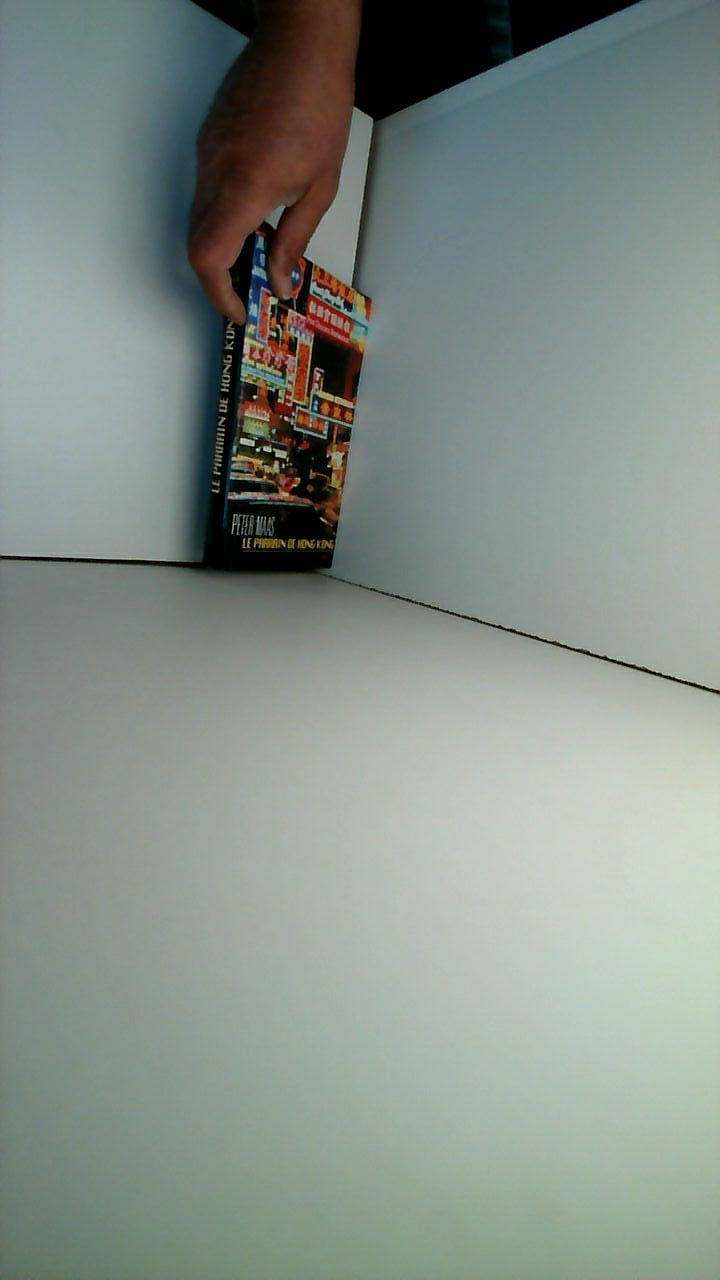book: (175, 213, 390, 601)
